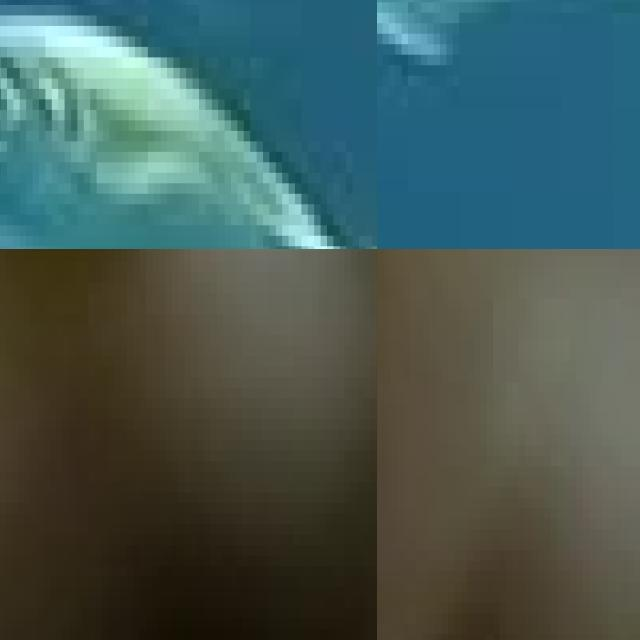fish: (0, 0, 377, 249), (0, 249, 377, 345)
